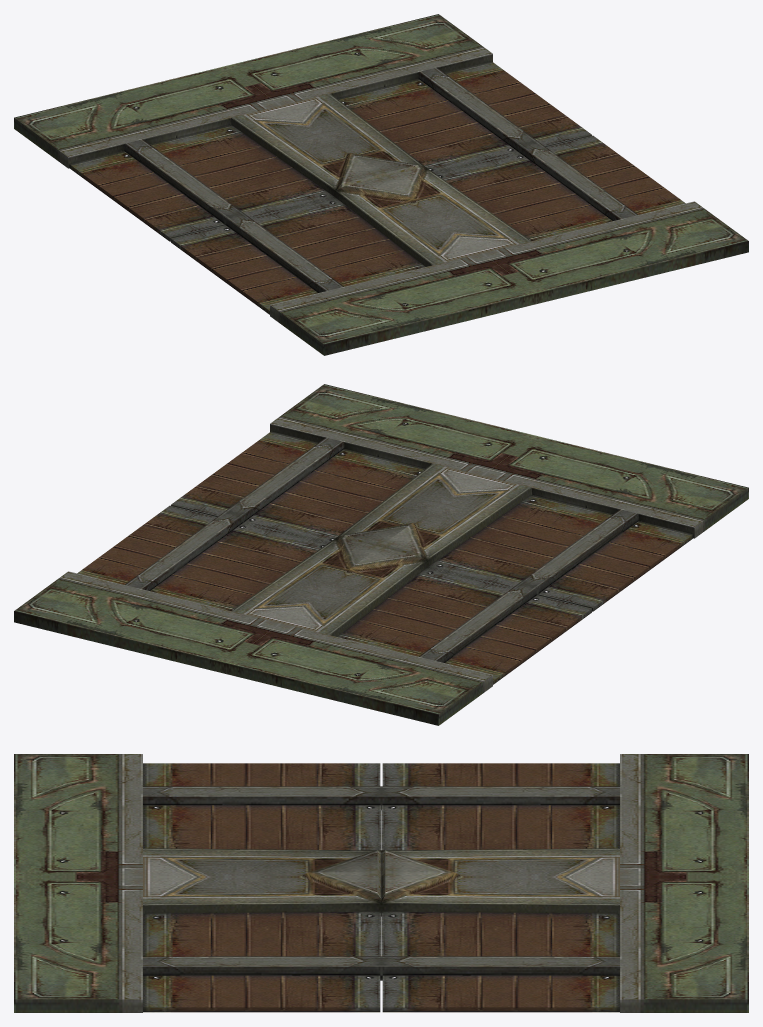
Rendered from yw_yiwangfeixu_lumian01.FBX.
3 renders of one model, top to bottom at view 1: azimuth 30°, elevation 25°; view 2: azimuth 150°, elevation 25°; view 3: azimuth 270°, elevation 25°, orthographic. The views are drawn at different scales.
Visible parts, largest first — view 1: yw_yiwangfeixu_lumian01; view 2: yw_yiwangfeixu_lumian01; view 3: yw_yiwangfeixu_lumian01.
Boxes of the visible parts, x1=… form: yw_yiwangfeixu_lumian01: x1=14, y1=14, x2=748, y2=355; yw_yiwangfeixu_lumian01: x1=14, y1=384, x2=748, y2=725; yw_yiwangfeixu_lumian01: x1=14, y1=754, x2=748, y2=1012.
Bounding box in the file's own units: 169 × 5.77 × 214.
